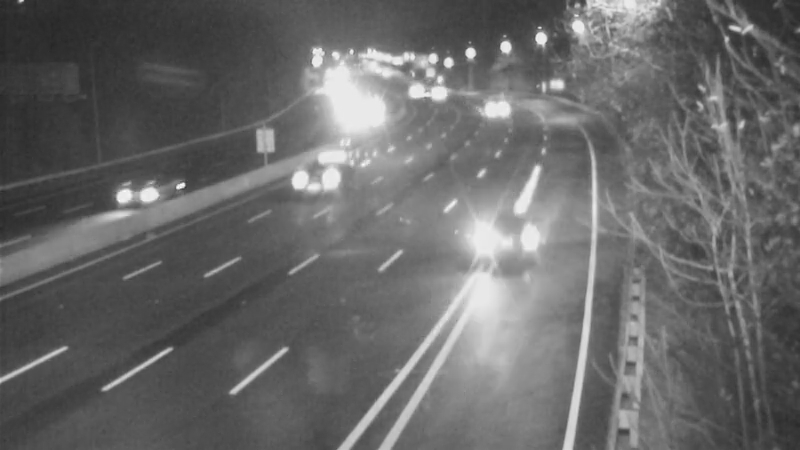vehicle: (274, 138, 354, 218), (470, 187, 550, 267), (98, 152, 178, 232), (392, 66, 442, 116), (413, 68, 463, 118), (469, 84, 519, 134)
